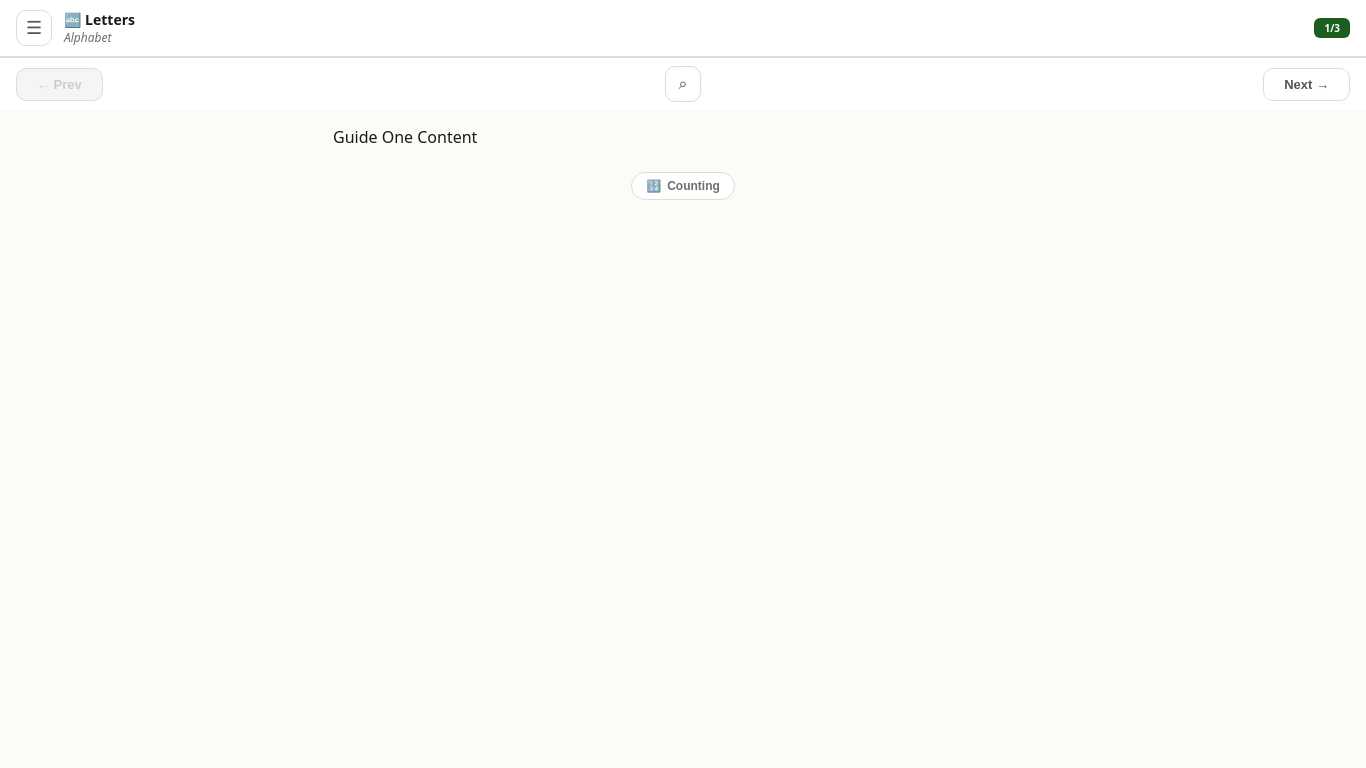
Scenario: GuideShell › navigates to the second guide when its sidebar button is clicked
Click the button named "Open guide menu" at {"x": 34, "y": 28}, box [16,10,52,46]
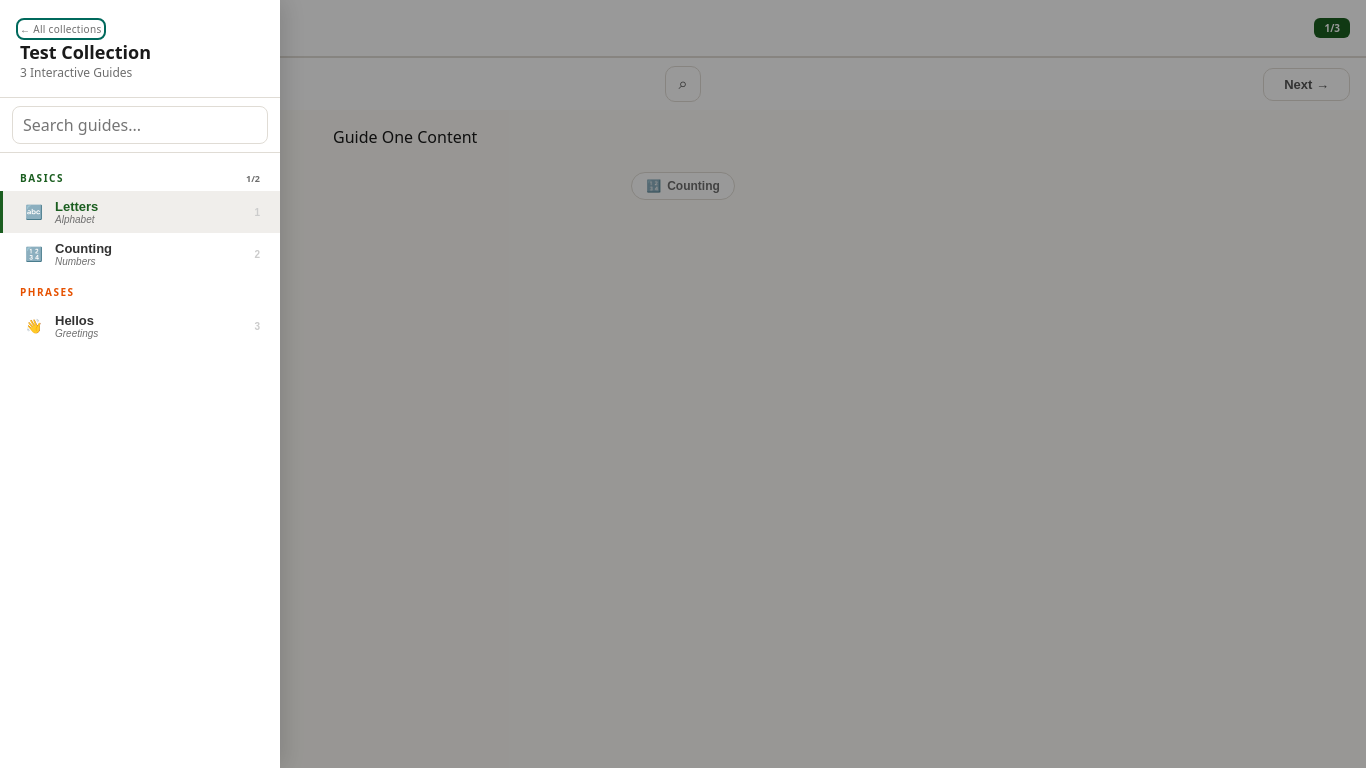
Click the button "🔢 Counting Numbers 2" at {"x": 84, "y": 248}, box [0,233,280,275]
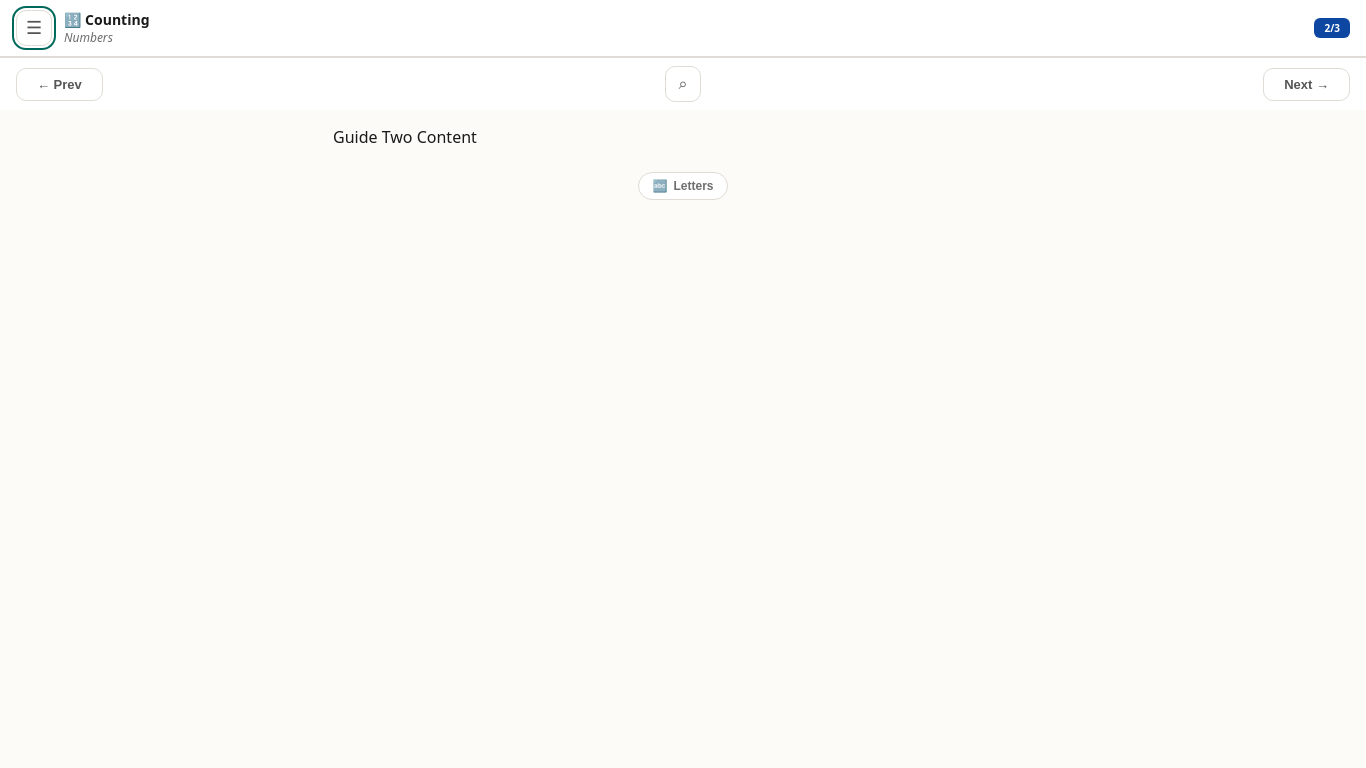
Expected: the text "Guide Two Content" is shown, [333,126,477,148]
Expected: the text named "Guide 2 of 3 guides" is shown, [1314,18,1350,38]
